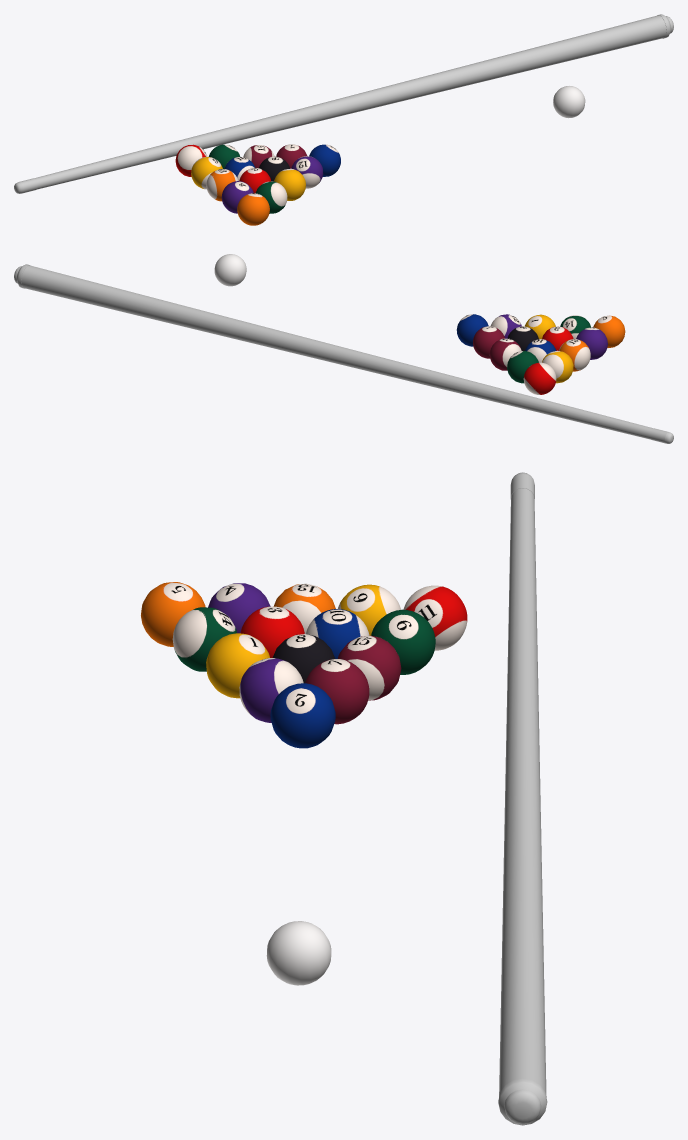
The model's file is poolballs.fbx.
The picture shows the model from 3 angles, top to bottom: view 1: azimuth 30°, elevation 25°; view 2: azimuth 150°, elevation 25°; view 3: azimuth 270°, elevation 25°; orthographic projection. The views are drawn at different scales.
Parts seen in each view (by area): view 1: Pool_Cue, PoolBall_5, PoolBall_White, PoolBall_1, PoolBall_14, PoolBall_12, PoolBall_2, PoolBall_4, PoolBall_13, PoolBall_11, PoolBall_9, PoolBall_3 (+5 smaller); view 2: Pool_Cue, PoolBall_11, PoolBall_White, PoolBall_15, PoolBall_5, PoolBall_13, PoolBall_4, PoolBall_7, PoolBall_9, PoolBall_6, PoolBall_2, PoolBall_8 (+5 smaller); view 3: Pool_Cue, PoolBall_2, PoolBall_White, PoolBall_6, PoolBall_14, PoolBall_7, PoolBall_1, PoolBall_5, PoolBall_12, PoolBall_11, PoolBall_15, PoolBall_3 (+5 smaller).
Part boxes in pixels (box(x1,y1,x2,y2)): Pool_Cue: box(14, 14, 673, 193); PoolBall_5: box(237, 193, 269, 225); PoolBall_White: box(553, 86, 585, 118); PoolBall_1: box(274, 168, 305, 200); PoolBall_14: box(255, 181, 287, 213); PoolBall_12: box(291, 156, 323, 188); PoolBall_2: box(309, 144, 340, 176); PoolBall_4: box(221, 181, 253, 213); PoolBall_13: box(206, 169, 238, 201); PoolBall_11: box(175, 144, 207, 176); PoolBall_9: box(191, 157, 222, 189); PoolBall_3: box(239, 168, 270, 193); Pool_Cue: box(14, 264, 673, 443); PoolBall_11: box(523, 362, 556, 394); PoolBall_White: box(214, 254, 246, 286); PoolBall_15: box(489, 338, 521, 370); PoolBall_5: box(593, 315, 625, 347); PoolBall_13: box(559, 339, 590, 371); PoolBall_4: box(576, 327, 607, 359); PoolBall_7: box(473, 326, 504, 358); PoolBall_9: box(542, 350, 573, 383); PoolBall_6: box(507, 351, 538, 383); PoolBall_2: box(456, 314, 488, 346); PoolBall_8: box(507, 326, 538, 350); Pool_Cue: box(498, 472, 547, 1125); PoolBall_2: box(270, 683, 335, 748); PoolBall_White: box(266, 921, 331, 985); PoolBall_6: box(371, 609, 435, 674); PoolBall_14: box(172, 607, 236, 671); PoolBall_7: box(305, 659, 369, 724); PoolBall_1: box(206, 633, 269, 698); PoolBall_5: box(141, 582, 205, 646); PoolBall_12: box(239, 658, 303, 722); PoolBall_11: box(403, 585, 467, 650); PoolBall_15: box(338, 635, 401, 700); PoolBall_3: box(240, 606, 304, 657).
Bounding box in the file's own units: 143 × 6.37 × 38.28.
